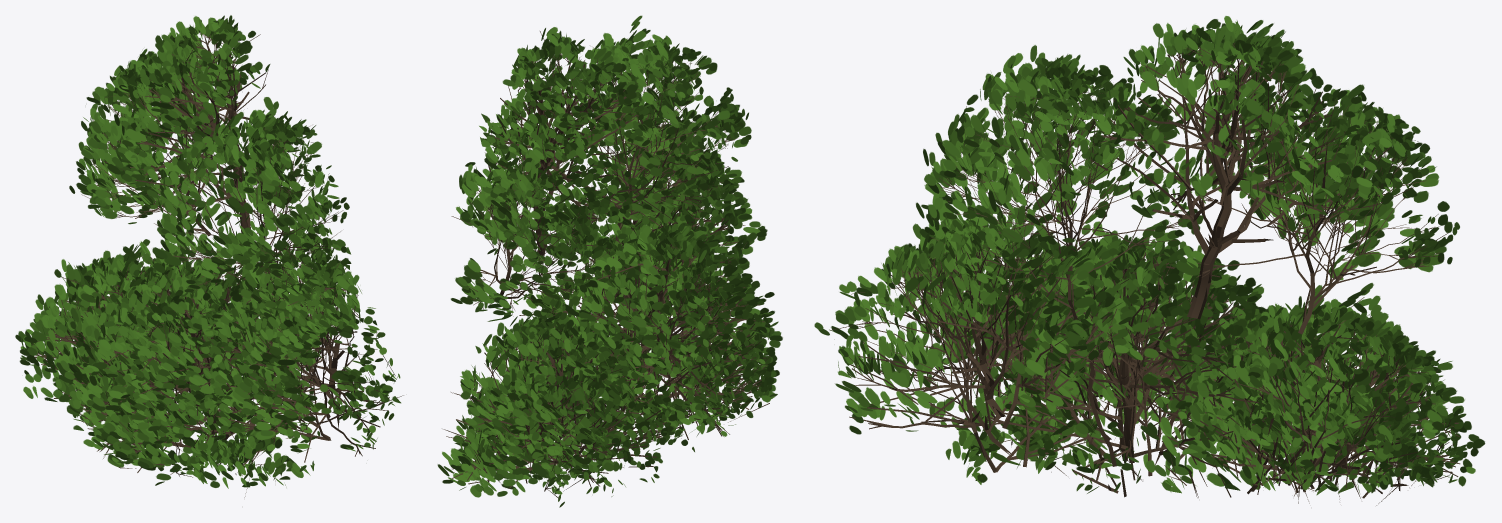
3 views of the same model, side by side, from view 1: azimuth 30°, elevation 25°; view 2: azimuth 150°, elevation 25°; view 3: azimuth 270°, elevation 25° (orthographic). The views are drawn at different scales.
Parts seen in each view (by area): view 1: oak 01.001_trunk_Mat.001_0.186; view 2: oak 01.001_trunk_Mat.001_0.186; view 3: oak 01.001_trunk_Mat.001_0.186.
Part boxes in pixels (left/top/right/bottom): oak 01.001_trunk_Mat.001_0.186: left=15, top=15, right=403, bottom=497; oak 01.001_trunk_Mat.001_0.186: left=437, top=15, right=782, bottom=507; oak 01.001_trunk_Mat.001_0.186: left=814, top=16, right=1485, bottom=505.
Size of the model in its own units: 2.51 by 4.29 by 5.35.
Materials: 2 (1 with a texture image).
